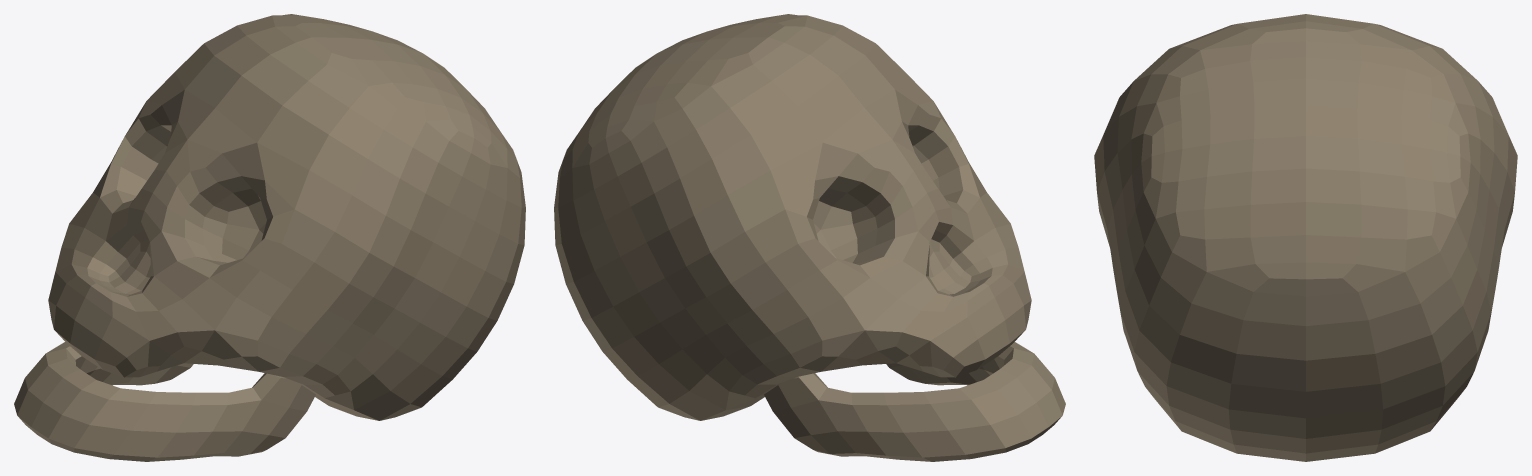
Rendered from dn_skull.glb.
The picture shows the model from 3 angles, left to right: view 1: azimuth 30°, elevation 25°; view 2: azimuth 150°, elevation 25°; view 3: azimuth 270°, elevation 25°; orthographic projection. The views are drawn at different scales.
Visible parts, largest first — view 1: dn_skull2; view 2: dn_skull2; view 3: dn_skull2.
Boxes of the visible parts, x1=… form: dn_skull2: x1=14, y1=14, x2=525, y2=461; dn_skull2: x1=554, y1=14, x2=1065, y2=461; dn_skull2: x1=1094, y1=14, x2=1517, y2=461.
Size of the model in its own units: 0.5862 by 0.45 by 0.4278.
